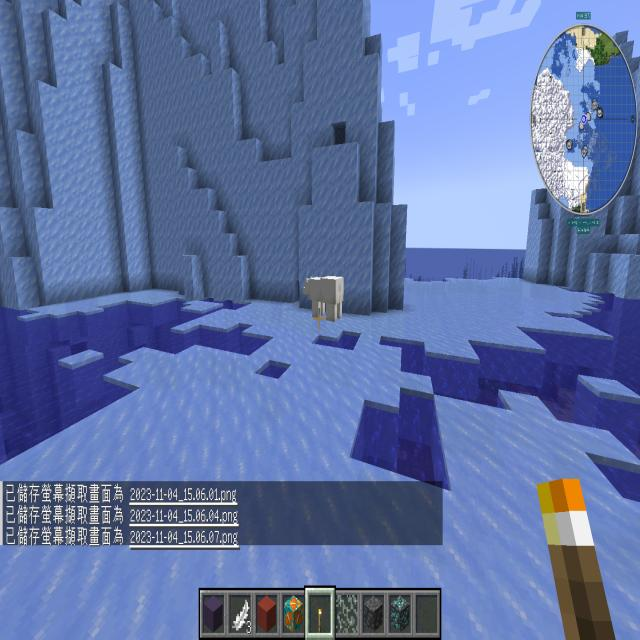Polar Bear: (298, 260, 356, 331)
